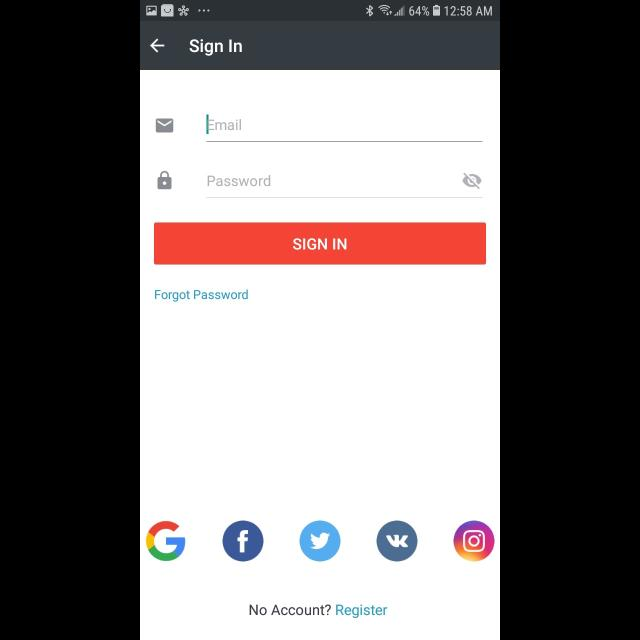icon: (222, 520, 264, 562), (146, 520, 186, 562), (300, 520, 340, 562), (462, 172, 482, 190), (158, 170, 172, 190), (150, 38, 166, 54), (156, 119, 174, 133)
image: (453, 520, 495, 562), (377, 520, 418, 562)
input: (206, 115, 482, 143), (207, 173, 483, 199)
text: (250, 604, 388, 618), (156, 290, 248, 302), (190, 40, 242, 56), (208, 175, 270, 187), (208, 119, 242, 131)
textbutton: (154, 223, 486, 265)
uppertaskbar: (140, 1, 500, 22)
